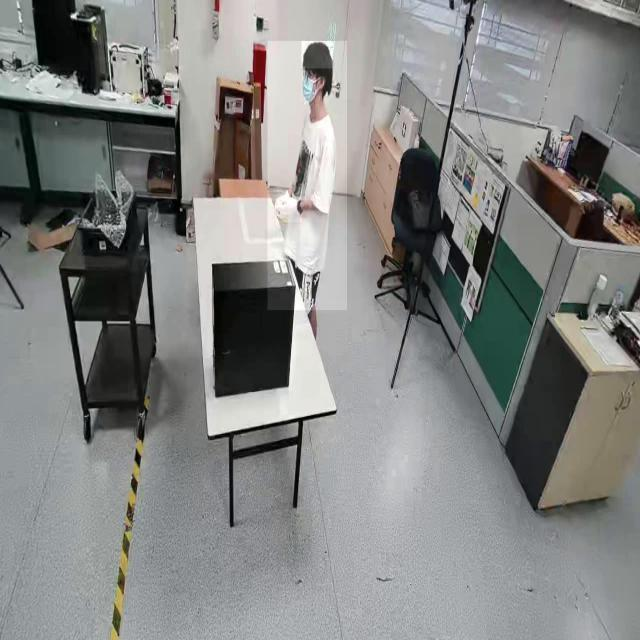gloves: (277, 186, 302, 224)
